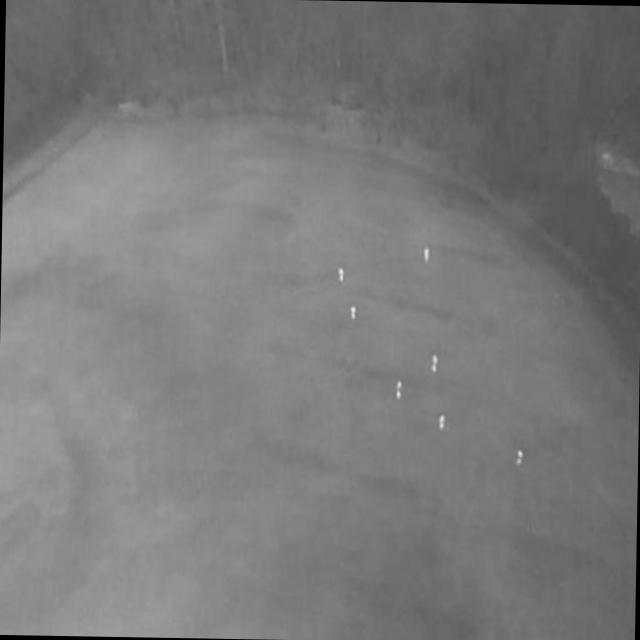person: (394, 380, 402, 403), (422, 245, 430, 266), (515, 449, 523, 470), (430, 356, 438, 376), (348, 303, 356, 322), (337, 268, 345, 284), (438, 414, 445, 430)
